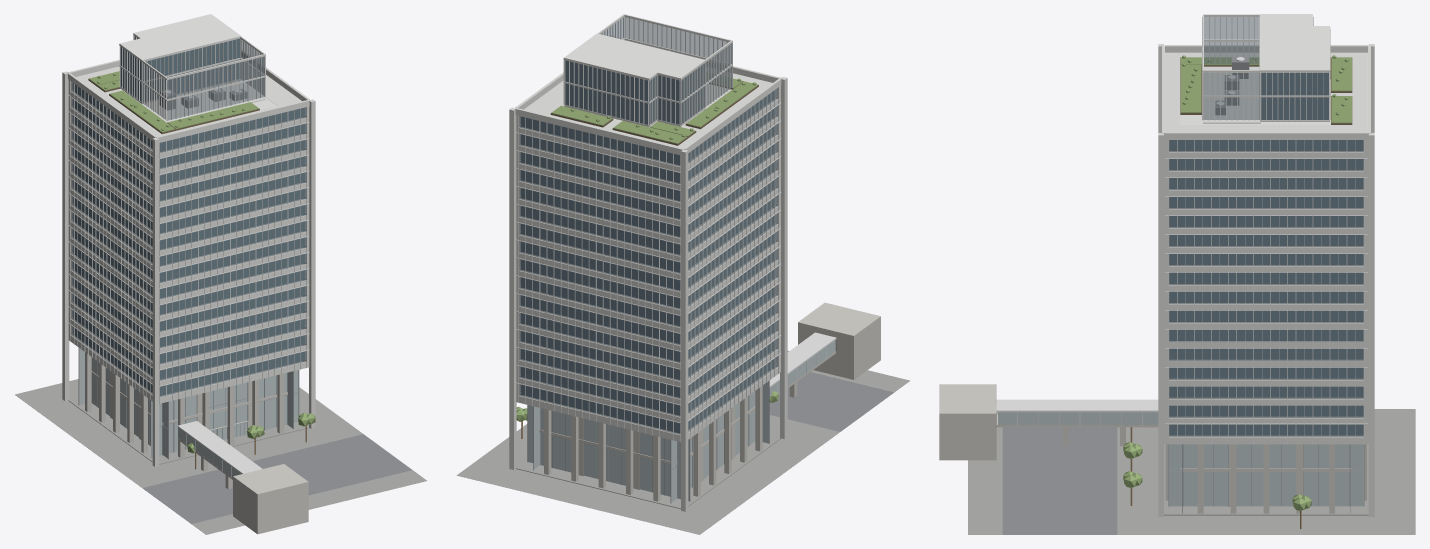
File: clay-plus15-glass-office-tower-clay-v005.glb
3 renders of one model, left to right at view 1: azimuth 30°, elevation 25°; view 2: azimuth 150°, elevation 25°; view 3: azimuth 270°, elevation 25°, orthographic. The views are drawn at different scales.
Visible parts, largest first — view 1: CLAY_GLASS, CLAY_PALE, CLAY_BLUE, CLAY_METAL, CLAY_FOUNDATION, CLAY_HARDWARE, CLAY_CONCRETE, CLAY_LIGHTGLASS, CLAY_FLOOR, CLAY_MEMBRANE, CLAY_PLANTING; view 2: CLAY_GLASS, CLAY_BLUE, CLAY_PALE, CLAY_METAL, CLAY_FOUNDATION, CLAY_CONCRETE, CLAY_LIGHTGLASS, CLAY_HARDWARE, CLAY_FLOOR, CLAY_MEMBRANE, CLAY_PLANTING, CLAY_SOIL; view 3: CLAY_GLASS, CLAY_PALE, CLAY_BLUE, CLAY_FOUNDATION, CLAY_METAL, CLAY_HARDWARE, CLAY_LIGHTGLASS, CLAY_CONCRETE, CLAY_MEMBRANE, CLAY_FLOOR, CLAY_PLANTING.
Boxes of the visible parts, left/top/right/bottom form: CLAY_GLASS: left=71, top=36, right=306, bottom=397; CLAY_PALE: left=62, top=33, right=315, bottom=467; CLAY_BLUE: left=72, top=36, right=305, bottom=395; CLAY_METAL: left=68, top=35, right=309, bottom=477; CLAY_FOUNDATION: left=15, top=379, right=426, bottom=534; CLAY_HARDWARE: left=78, top=88, right=412, bottom=523; CLAY_CONCRETE: left=75, top=337, right=308, bottom=534; CLAY_LIGHTGLASS: left=79, top=348, right=298, bottom=477; CLAY_FLOOR: left=75, top=93, right=302, bottom=396; CLAY_MEMBRANE: left=119, top=14, right=301, bottom=110; CLAY_PLANTING: left=89, top=71, right=315, bottom=453; CLAY_GLASS: left=519, top=17, right=836, bottom=434; CLAY_BLUE: left=520, top=60, right=776, bottom=433; CLAY_PALE: left=509, top=14, right=787, bottom=511; CLAY_METAL: left=515, top=17, right=836, bottom=442; CLAY_FOUNDATION: left=456, top=351, right=909, bottom=534; CLAY_CONCRETE: left=523, top=302, right=880, bottom=501; CLAY_LIGHTGLASS: left=527, top=340, right=835, bottom=502; CLAY_HARDWARE: left=527, top=372, right=893, bottom=503; CLAY_FLOOR: left=523, top=101, right=773, bottom=416; CLAY_MEMBRANE: left=524, top=33, right=705, bottom=127; CLAY_PLANTING: left=516, top=74, right=778, bottom=421; CLAY_SOIL: left=550, top=81, right=758, bottom=145; CLAY_GLASS: left=996, top=17, right=1363, bottom=436; CLAY_PALE: left=1158, top=14, right=1374, bottom=516; CLAY_BLUE: left=1169, top=73, right=1363, bottom=435; CLAY_FOUNDATION: left=968, top=409, right=1415, bottom=534; CLAY_METAL: left=996, top=16, right=1367, bottom=444; CLAY_HARDWARE: left=1002, top=57, right=1364, bottom=534; CLAY_LIGHTGLASS: left=998, top=412, right=1363, bottom=506; CLAY_CONCRETE: left=939, top=384, right=1366, bottom=513; CLAY_MEMBRANE: left=1165, top=14, right=1367, bottom=132; CLAY_FLOOR: left=1169, top=140, right=1363, bottom=434; CLAY_PLANTING: left=1123, top=55, right=1351, bottom=510.
Size of the model in its own units: 52 by 82.66 by 83.
